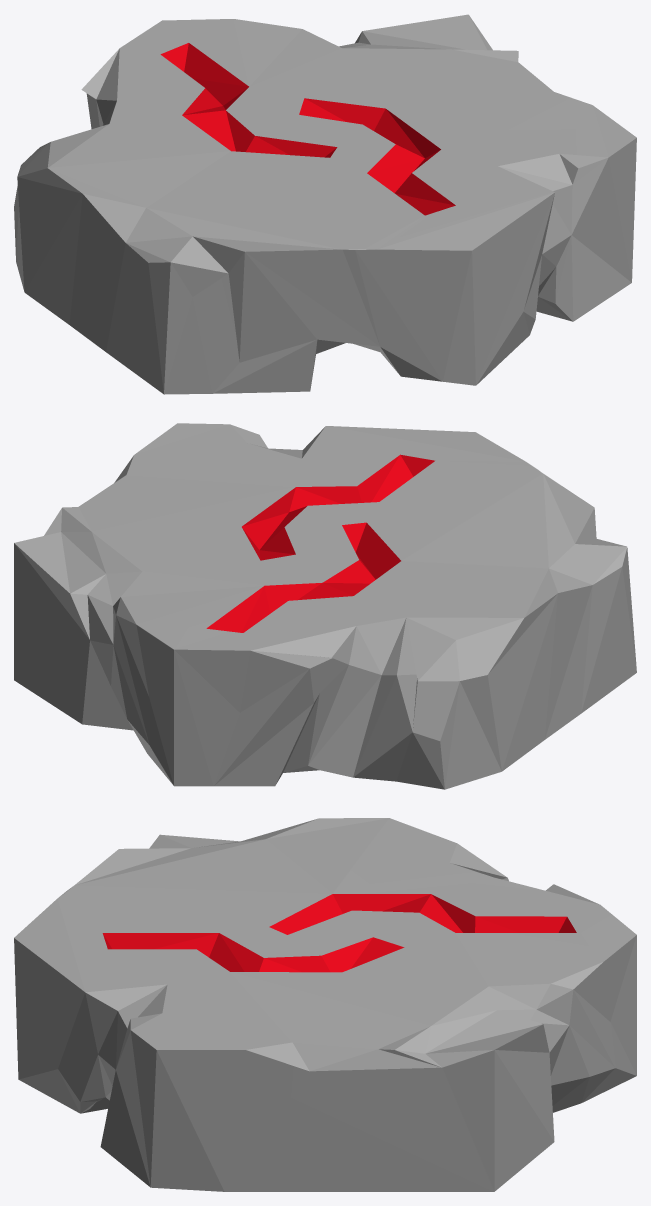
The model's file is Button3.fbx.
3 views of the same model, one above another, from view 1: azimuth 30°, elevation 25°; view 2: azimuth 150°, elevation 25°; view 3: azimuth 270°, elevation 25° (orthographic). The views are drawn at different scales.
Parts seen in each view (by area): view 1: SM_Env_Rune_Rounded_05; view 2: SM_Env_Rune_Rounded_05; view 3: SM_Env_Rune_Rounded_05.
Part boxes in pixels (box(x1,y1,x2,y2)): SM_Env_Rune_Rounded_05: box(14, 14, 636, 394); SM_Env_Rune_Rounded_05: box(14, 423, 636, 789); SM_Env_Rune_Rounded_05: box(14, 818, 636, 1191).
Bounding box in the file's own units: 171 × 48.84 × 194.
